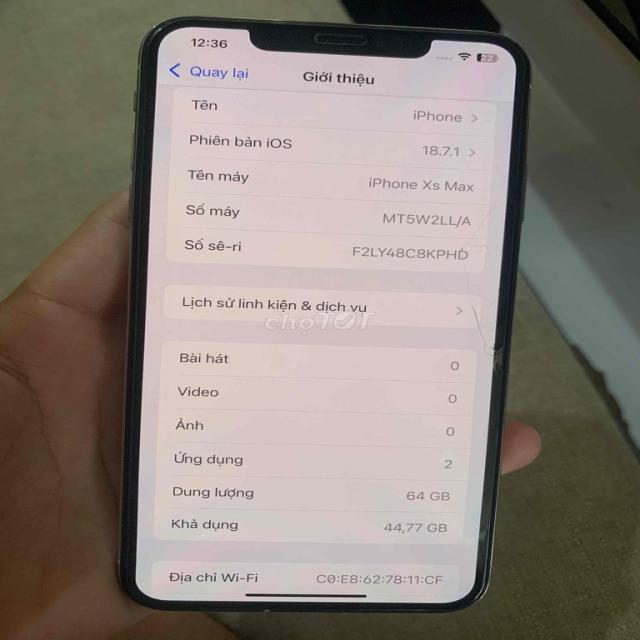physical_damage: (450, 183, 505, 252), (464, 327, 514, 382), (434, 234, 488, 284), (462, 280, 496, 330)
